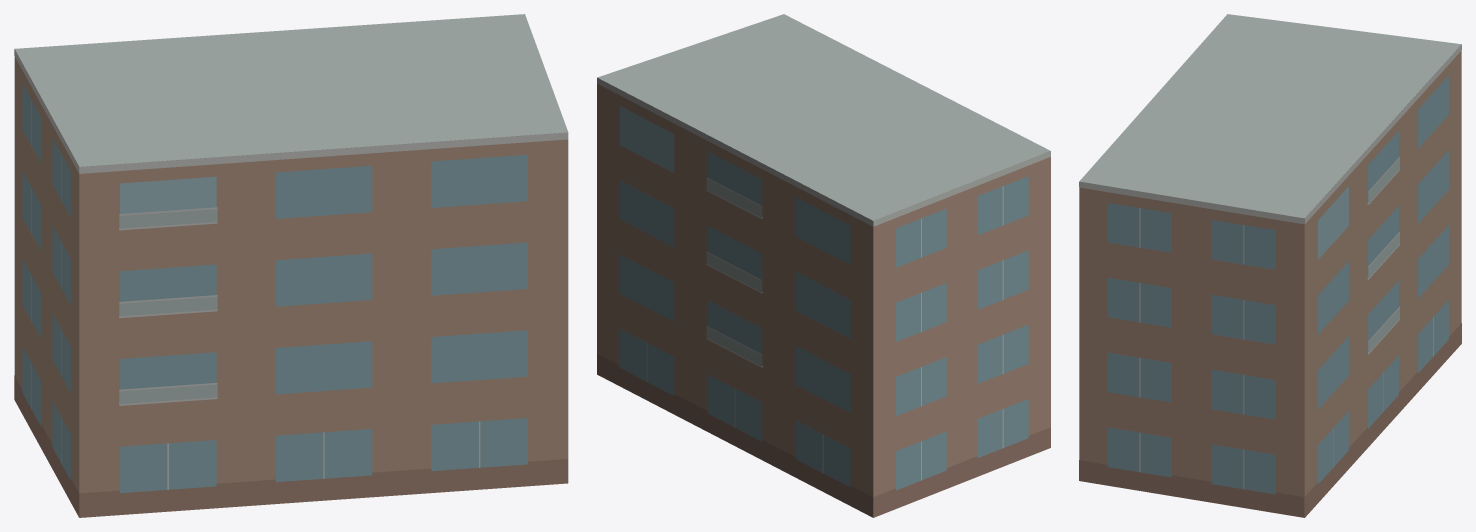
File: survey-upis-32663516.glb
3 renders of one model, left to right at view 1: azimuth 30°, elevation 25°; view 2: azimuth 150°, elevation 25°; view 3: azimuth 270°, elevation 25°, orthographic. The views are drawn at different scales.
Visible parts, largest first — view 1: survey-upis-32663516.tmp; view 2: survey-upis-32663516.tmp; view 3: survey-upis-32663516.tmp.
Part boxes in pixels (box(x1,y1,x2,y2)): survey-upis-32663516.tmp: box(14, 14, 568, 517); survey-upis-32663516.tmp: box(597, 14, 1050, 517); survey-upis-32663516.tmp: box(1079, 14, 1461, 517).
Size of the model in its own units: 17.87 by 12.2 by 14.14.
